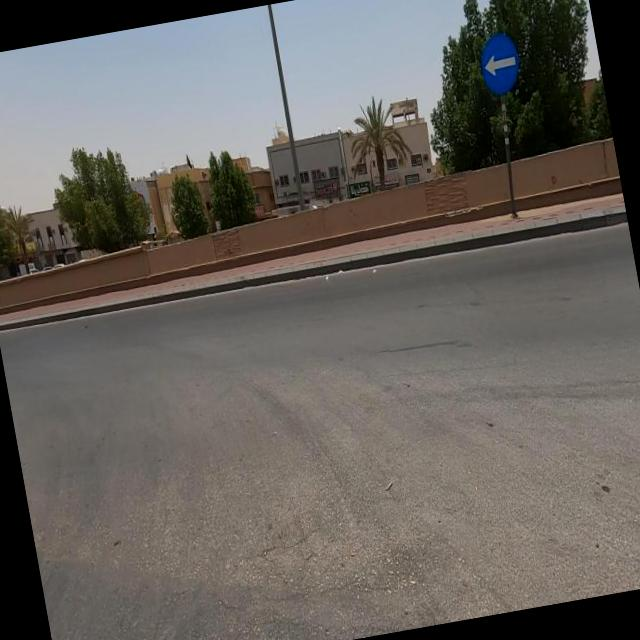debris: (288, 148, 366, 224)
